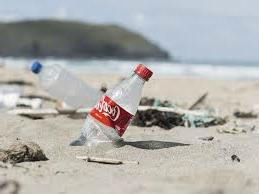Plastic: (60, 53, 167, 161), (24, 39, 107, 115)
